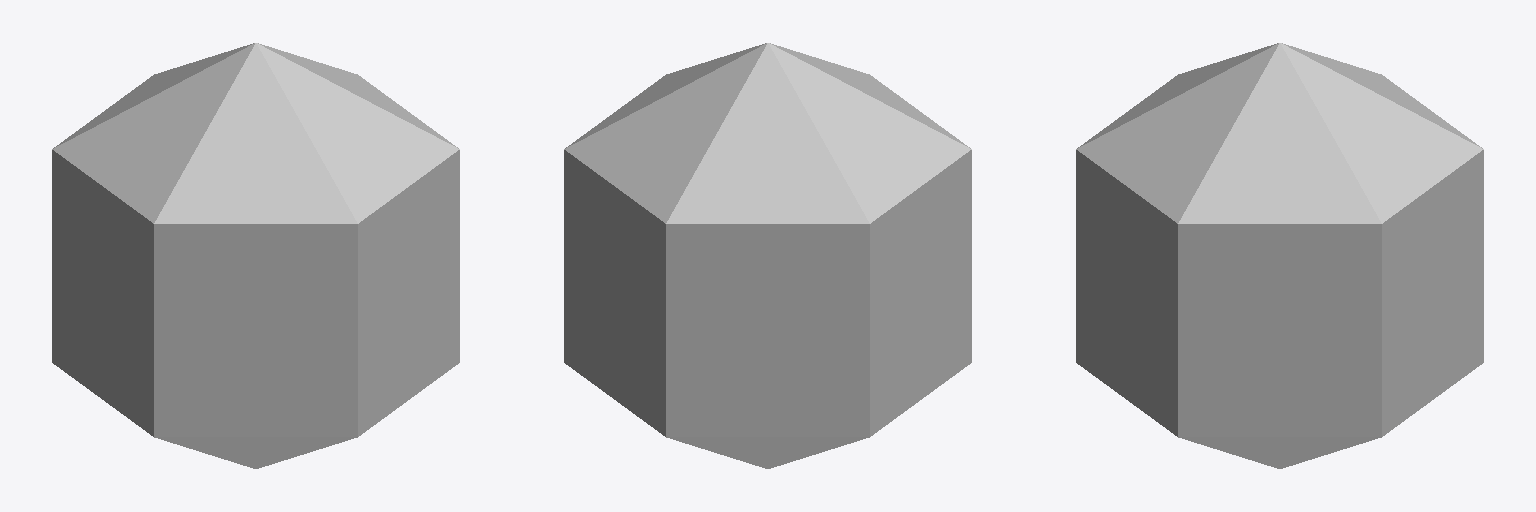
File: particle.obj
3 renders of one model, left to right at view 1: azimuth 30°, elevation 25°; view 2: azimuth 150°, elevation 25°; view 3: azimuth 270°, elevation 25°, orthographic.
Parts seen in each view (by area): view 1: Sphere.001_Sphere.003; view 2: Sphere.001_Sphere.003; view 3: Sphere.001_Sphere.003.
Boxes of the visible parts, box(x1,y1,x2,y2) form: Sphere.001_Sphere.003: box(52, 43, 459, 468); Sphere.001_Sphere.003: box(564, 43, 971, 468); Sphere.001_Sphere.003: box(1076, 43, 1483, 468).
Bounding box in the file's own units: 0.03 × 0.04 × 0.0346.